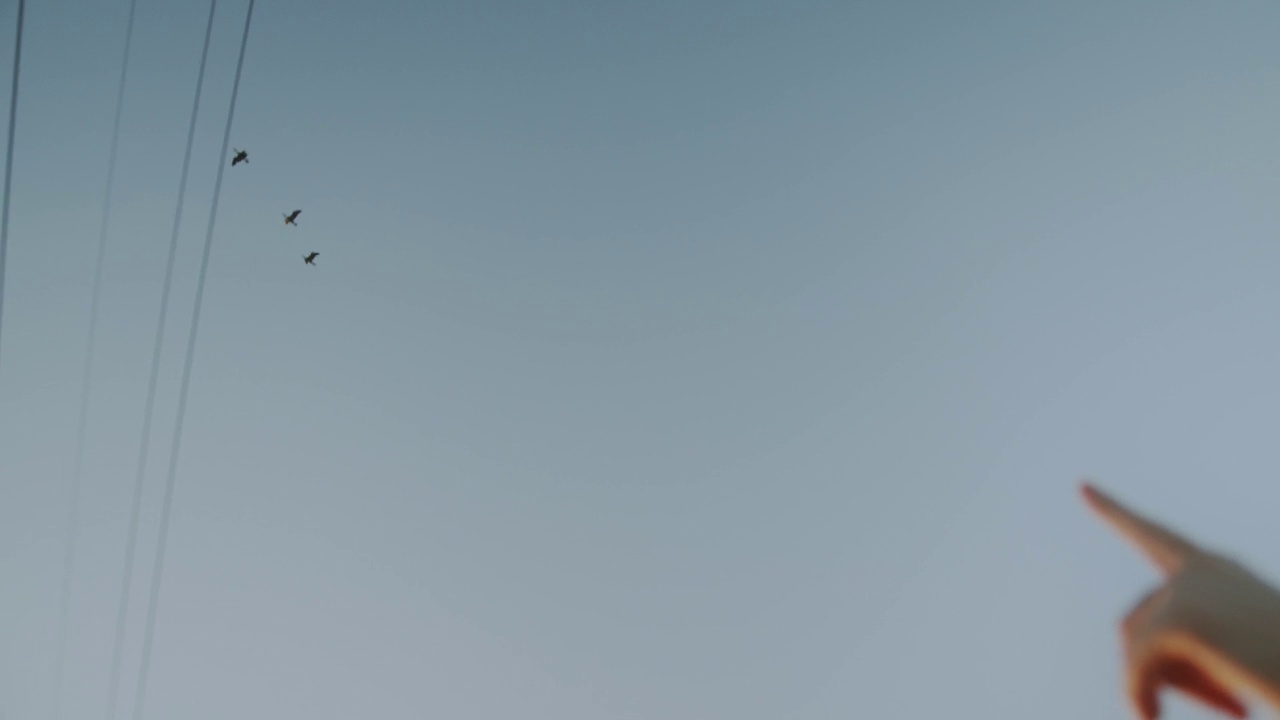bird: (227, 147, 251, 167), (299, 246, 318, 266), (281, 209, 300, 227)
